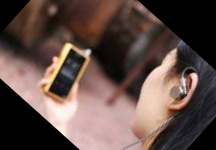earphone: (160, 68, 205, 115)
